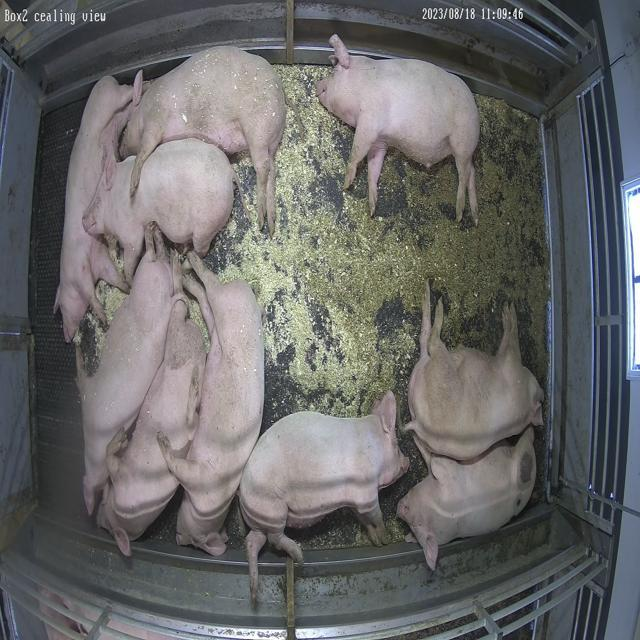Dirt: (376, 96, 549, 394)
Pig: (239, 393, 410, 606), (97, 257, 206, 558), (158, 253, 262, 556), (120, 46, 286, 234), (318, 35, 480, 224), (77, 228, 174, 516), (407, 284, 545, 462), (54, 72, 142, 342), (83, 139, 234, 278), (398, 427, 537, 572)
